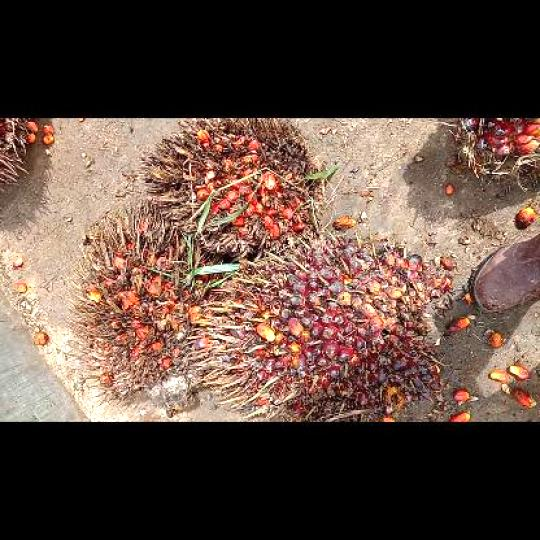masak: (184, 233, 449, 420)
terlalu masak: (63, 205, 220, 413), (139, 117, 328, 256)
